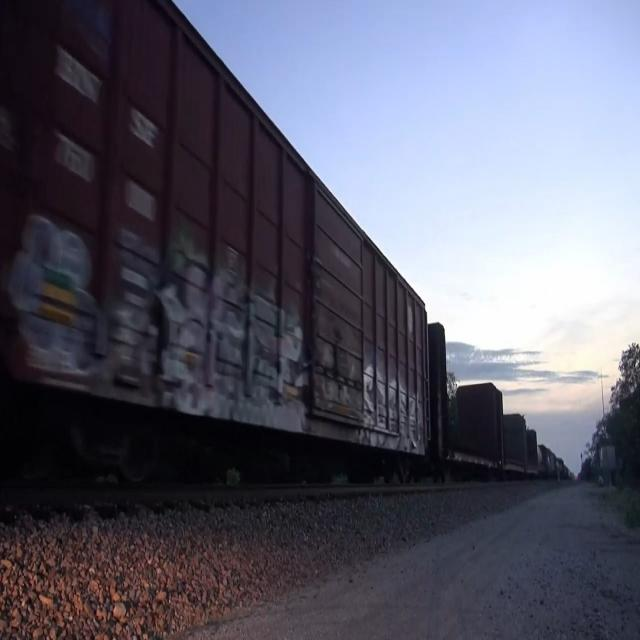boxcar: (0, 0, 438, 497)
flatcar_bulkhead: (429, 310, 503, 485)
